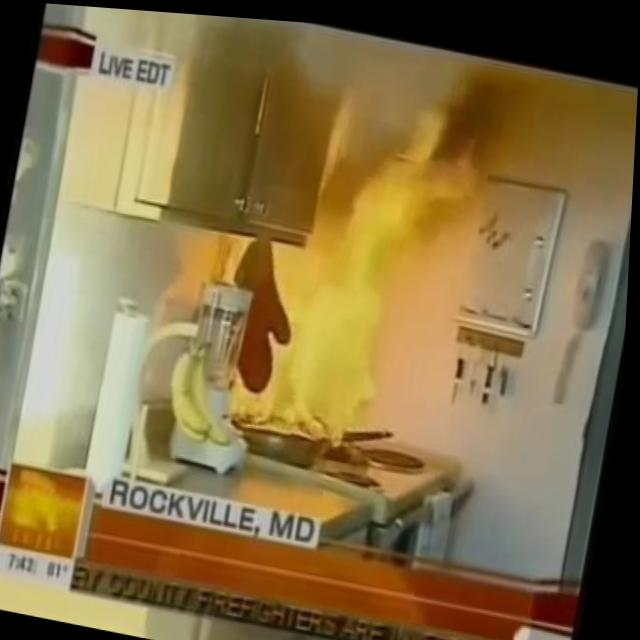fire: (198, 56, 495, 459)
